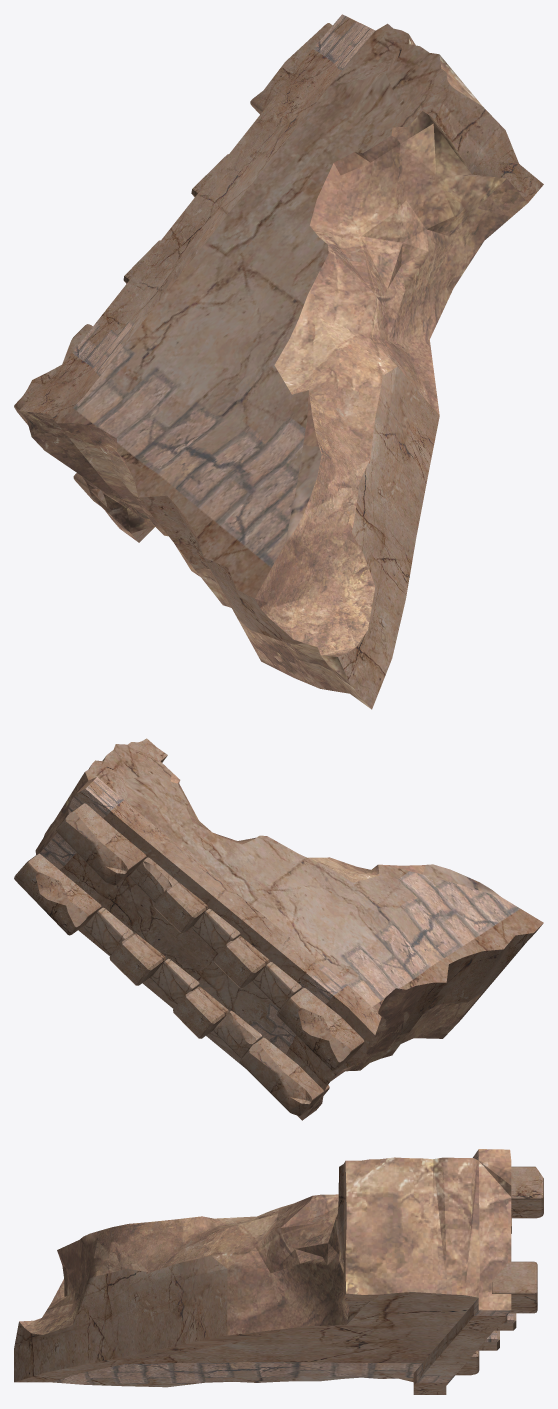
Rendered from s10_pillar.dae.
The picture shows the model from 3 angles, top to bottom: view 1: azimuth 30°, elevation 25°; view 2: azimuth 150°, elevation 25°; view 3: azimuth 270°, elevation 25°; orthographic projection. The views are drawn at different scales.
Visible parts, largest first — view 1: s10_pillar_break3Shape (×2); view 2: s10_pillar_break3Shape (×2); view 3: s10_pillar_break3Shape (×2).
Part boxes in pixels (x1,y1,x2,y2): s10_pillar_break3Shape (×2): (14,14,543,709); s10_pillar_break3Shape (×2): (14,738,543,1120); s10_pillar_break3Shape (×2): (14,1149,543,1394).
Size of the model in its own units: 48.39 by 56.98 by 42.42.
Materials: 2 (2 with a texture image).
